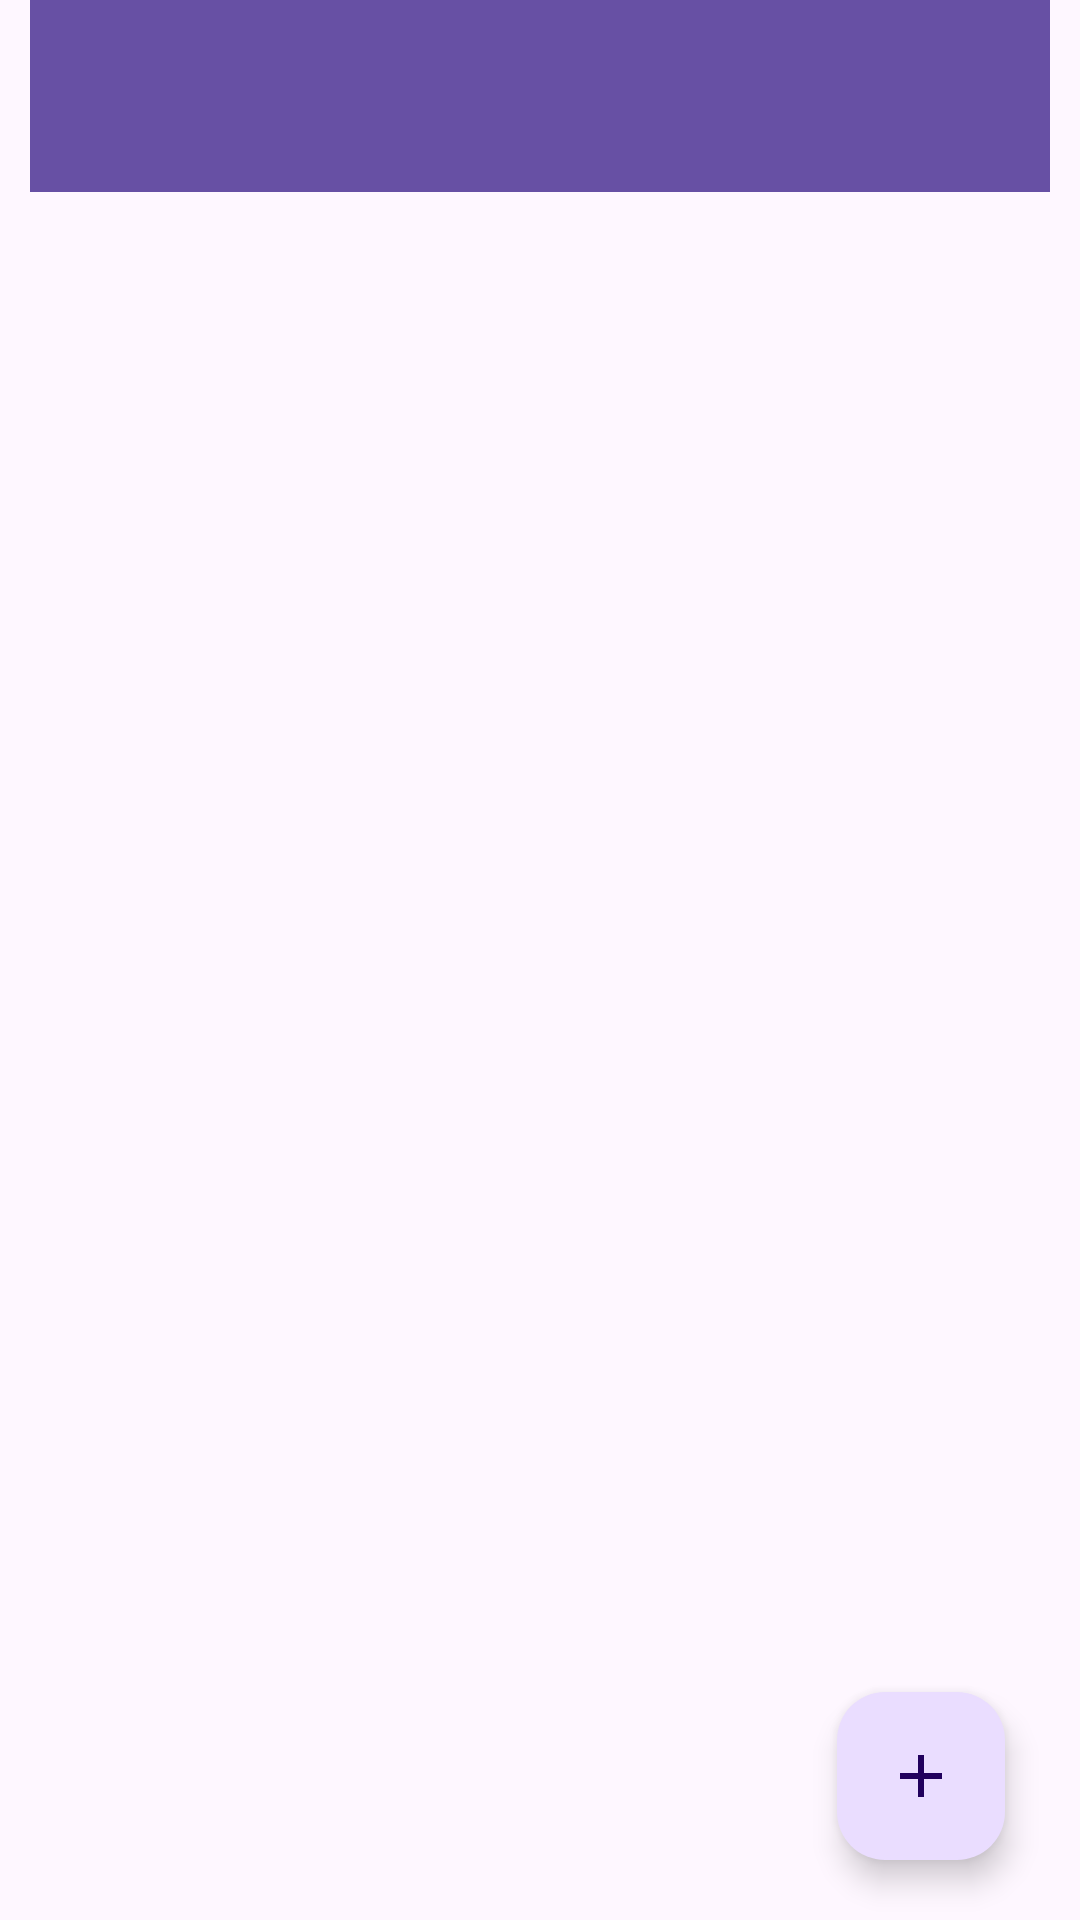

Icon click points for this 1080 × 1920 phone screenshot, format (x=x, y=y):
add: (x=921, y=1776)
